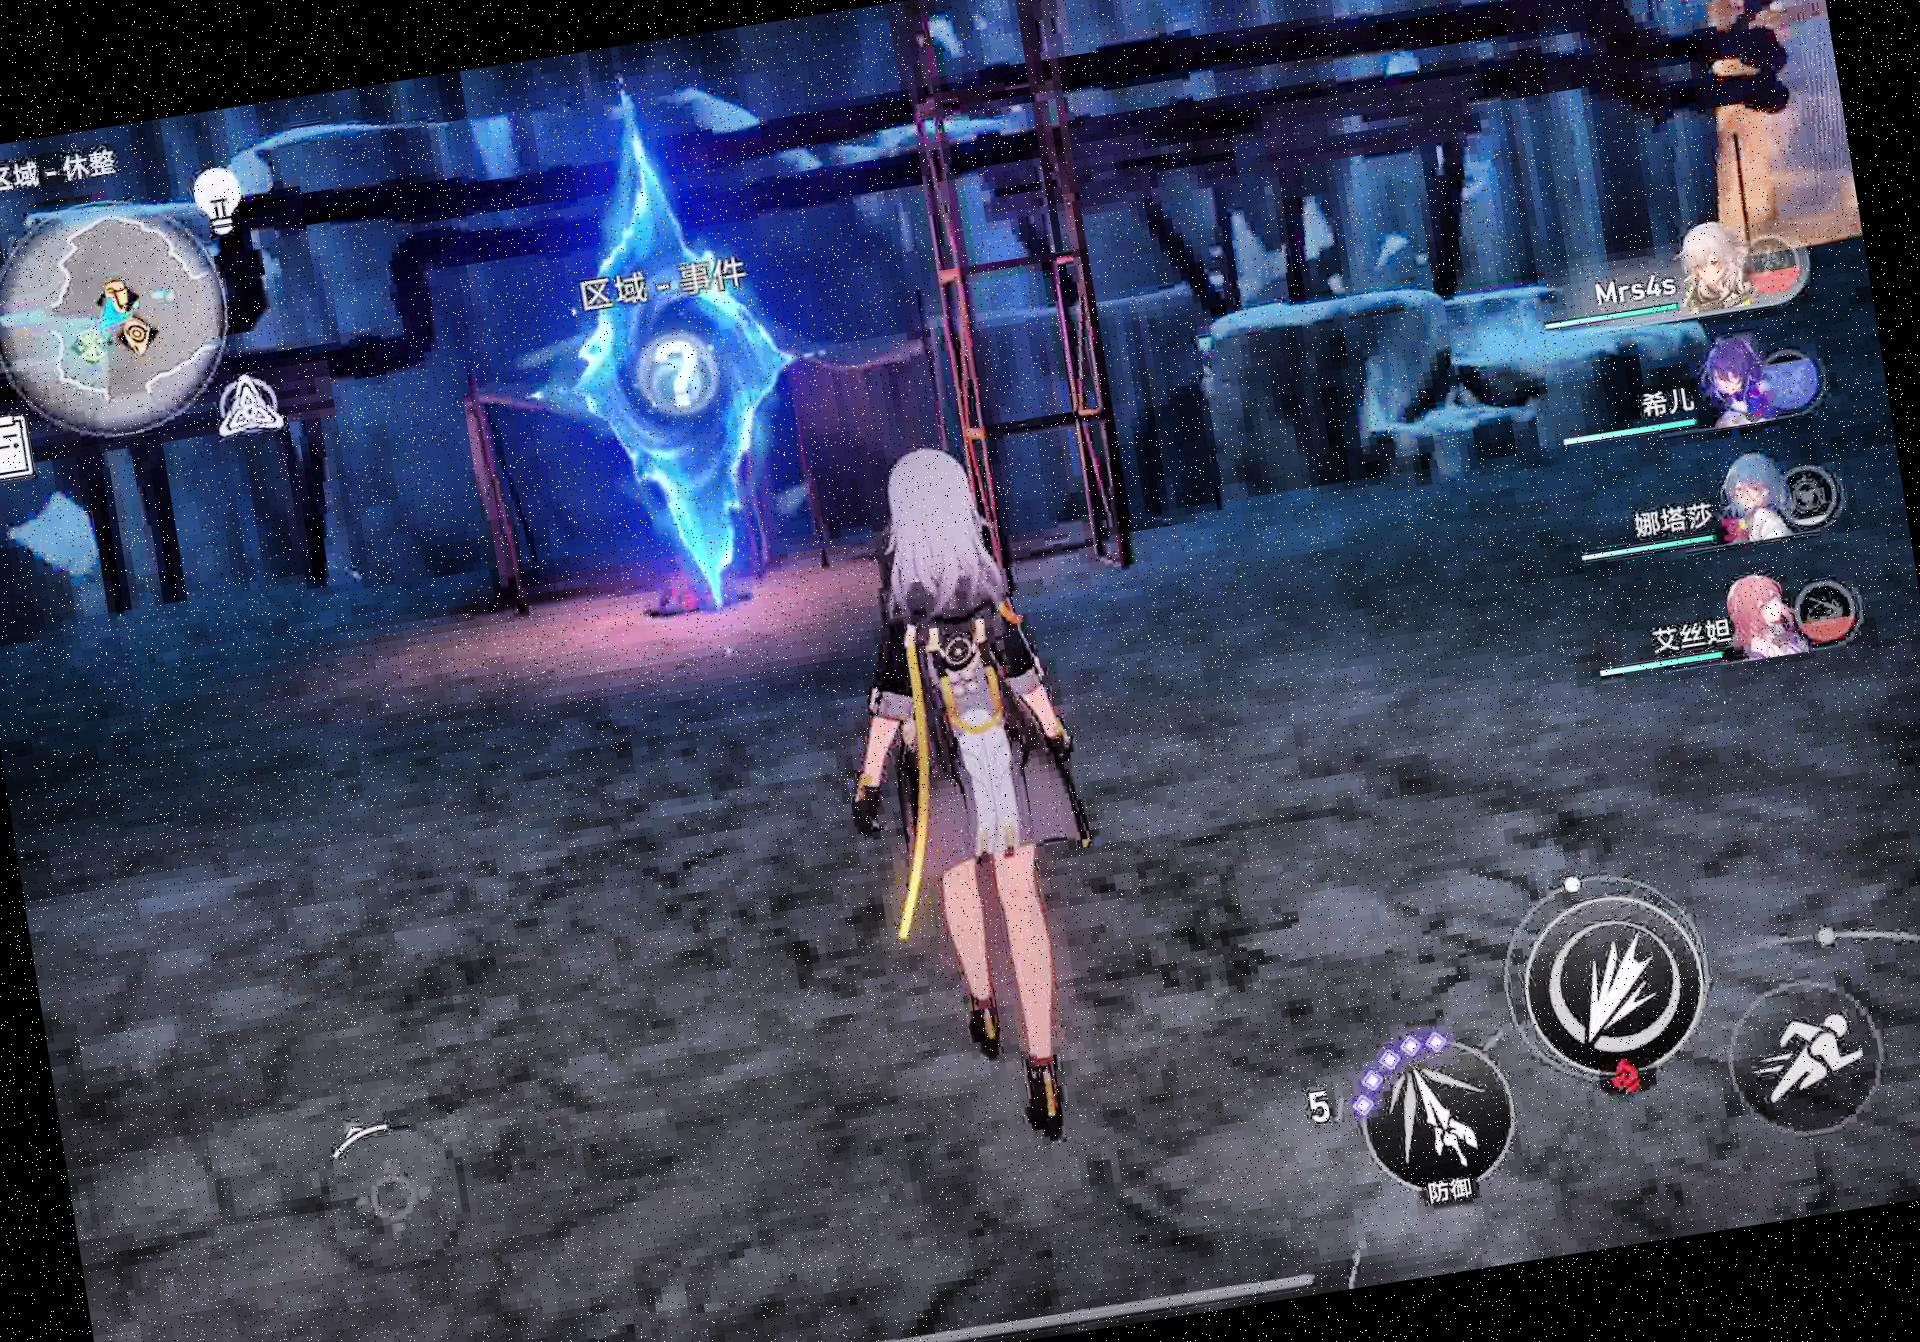EventDoor: (452, 101, 853, 658)
Self: (801, 432, 1135, 1149)
